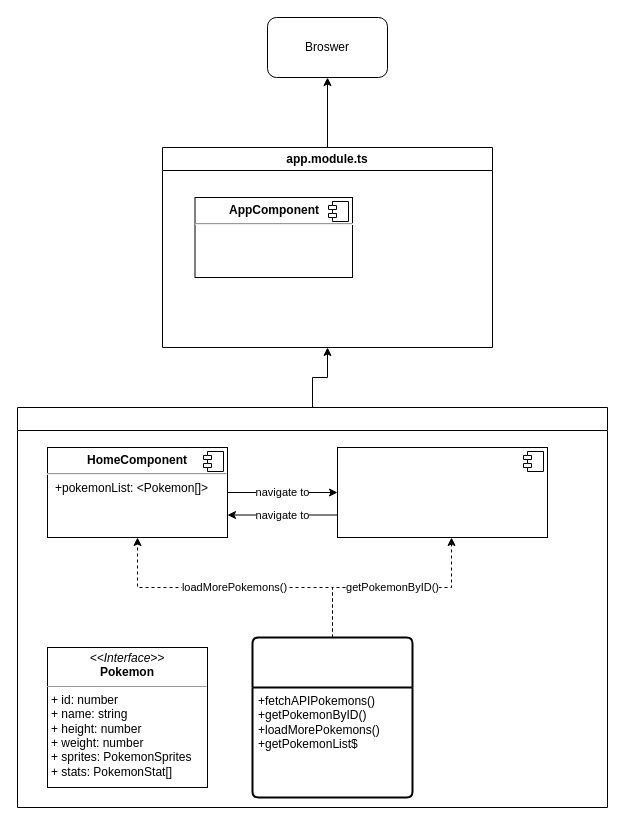
Image size: 625x825. Some labels were removed from this diagram. The box of each missing label's shape, as (x1, y1, x2, y2) in pixels:
pokelist.module.ts: (16, 406, 608, 808)
Pokemon Service: (251, 636, 413, 798)
PokemonDetailsComponent +selectedPokemon: <Pokemon>: (336, 446, 548, 538)
